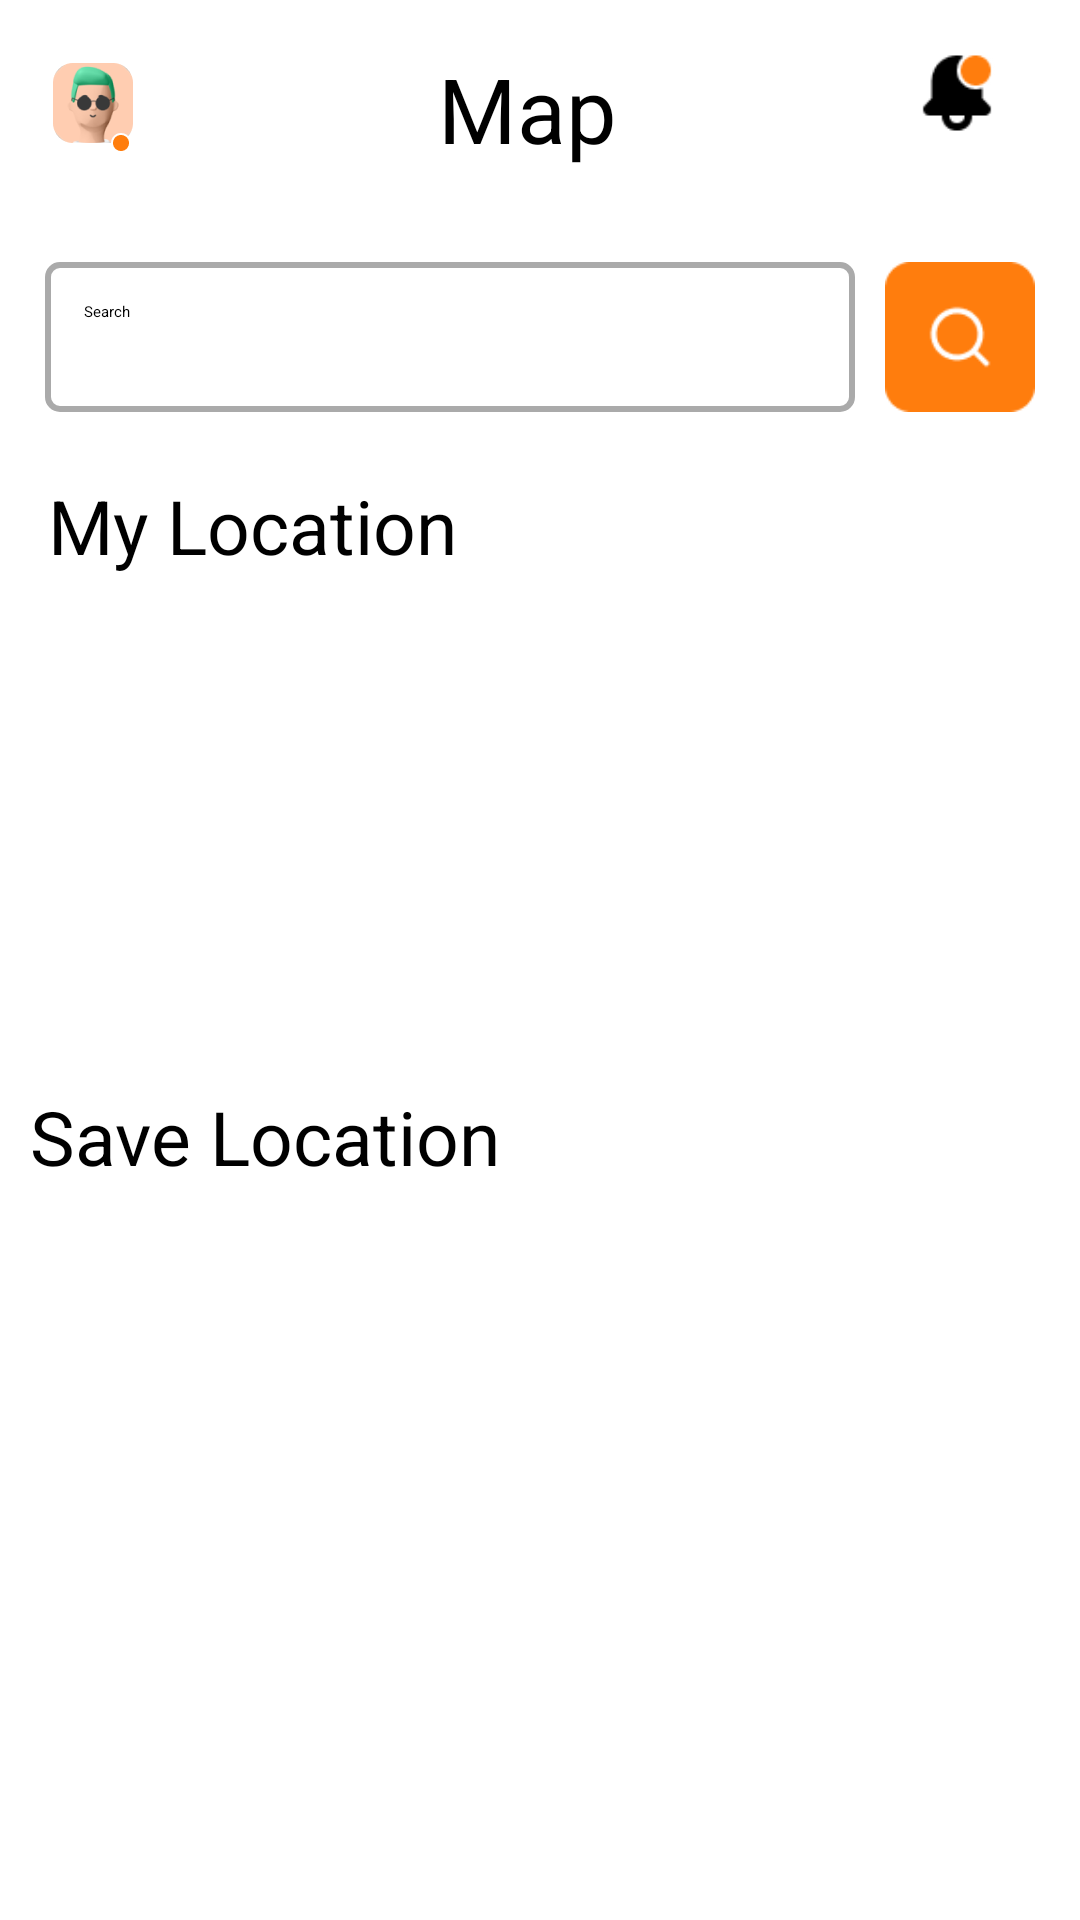

Icon click points for this 1080w x 1920h phone screenshot, format (x=x, y=y):
authorrr: (x=93, y=107)
belll: (x=957, y=93)
